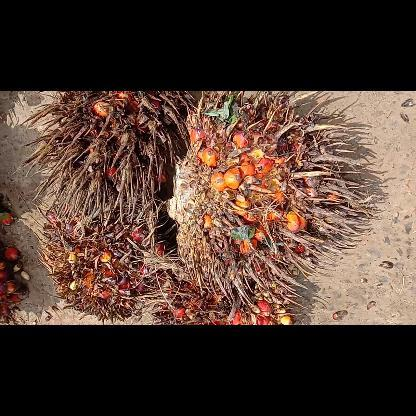Terlalu masak: (162, 91, 382, 307), (13, 90, 194, 222), (30, 183, 178, 323), (144, 252, 298, 324)
